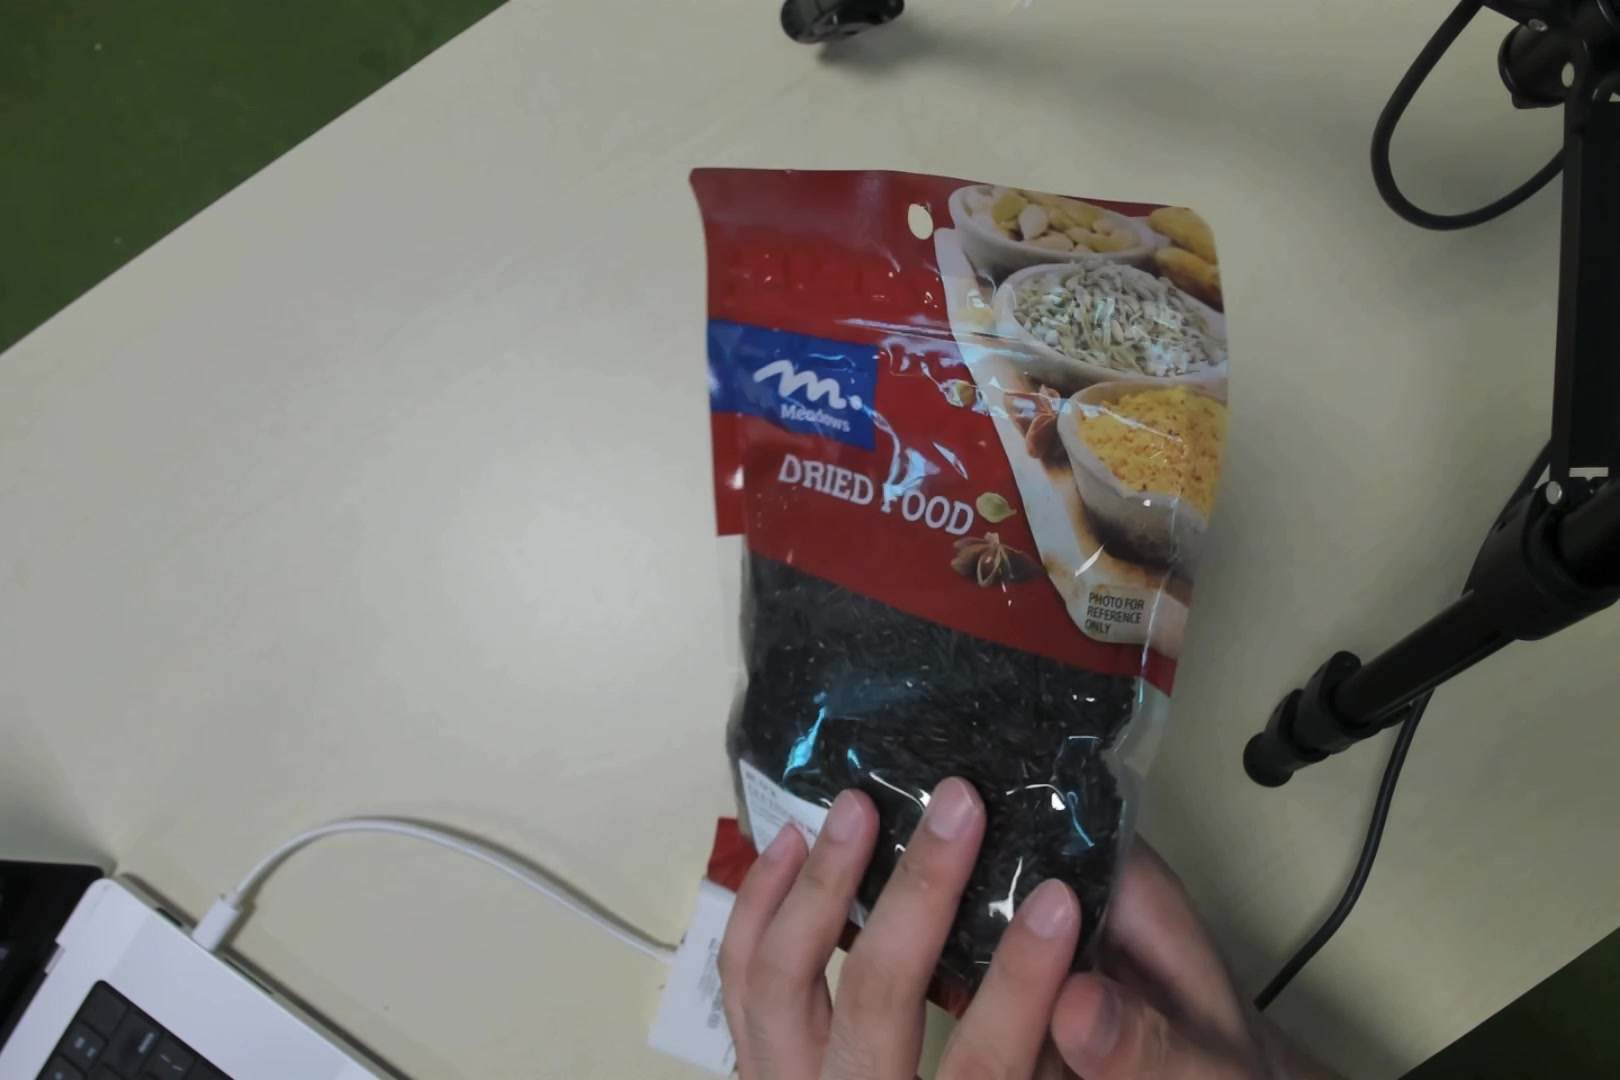OtherDriedFood_100-199g_NonHalal_NonHealthy: (720, 181, 1172, 915)
